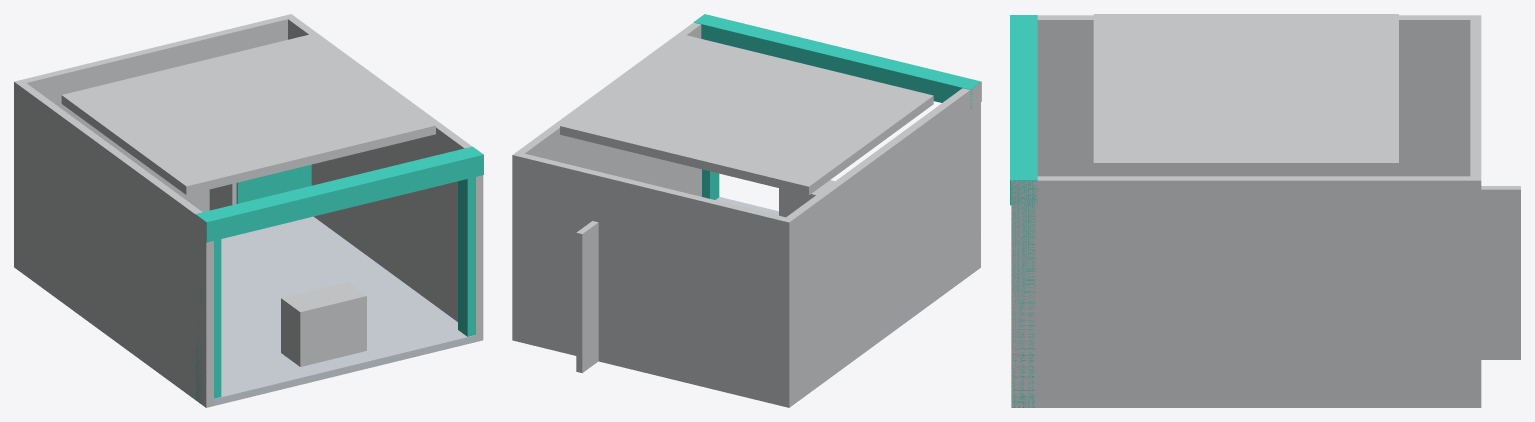
3 renders of one model, left to right at view 1: azimuth 30°, elevation 25°; view 2: azimuth 150°, elevation 25°; view 3: azimuth 270°, elevation 25°, orthographic. The views are drawn at different scales.
Parts seen in each view (by area): view 1: Exhibition Booth Concept; view 2: Exhibition Booth Concept; view 3: Exhibition Booth Concept.
Boxes of the visible parts, left/top/right/bottom form: Exhibition Booth Concept: left=14, top=14, right=483, bottom=407; Exhibition Booth Concept: left=512, top=14, right=981, bottom=407; Exhibition Booth Concept: left=1010, top=14, right=1520, bottom=407.
Bounding box in the file's own units: 5 × 3.34 × 6.52.
